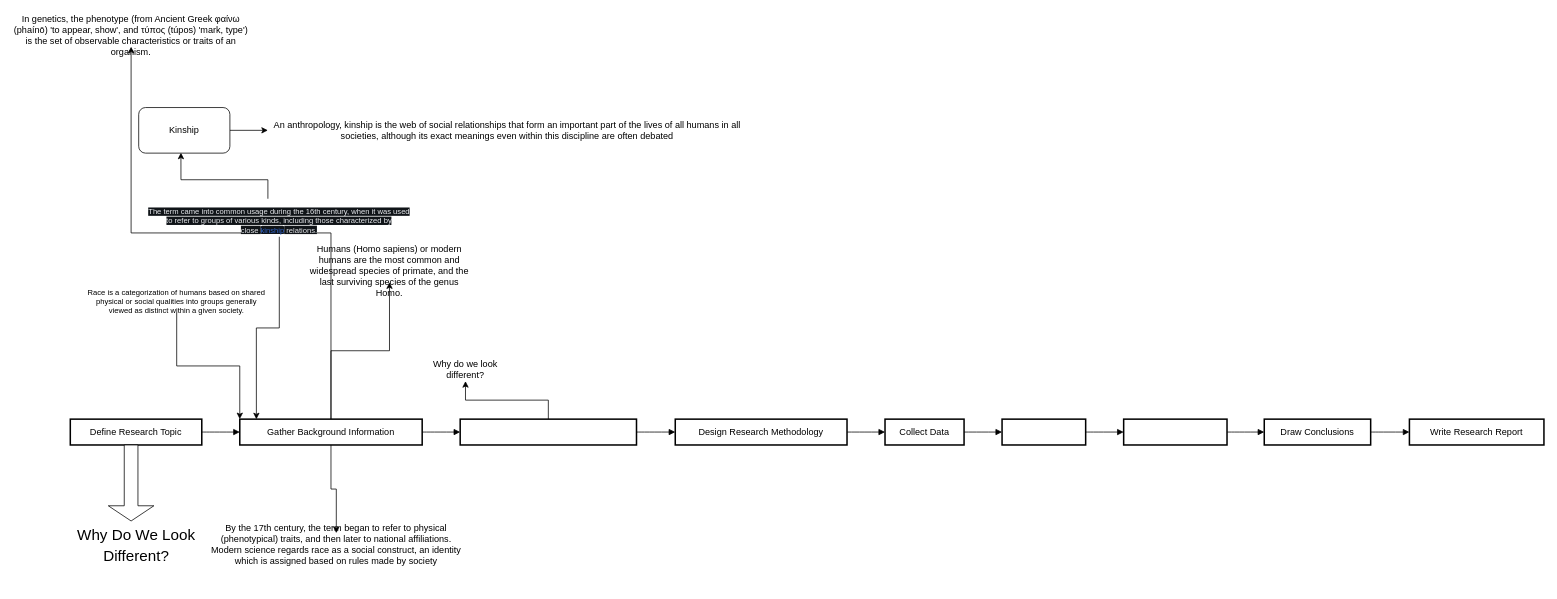
This 1557x599 diagram has some shape labels left out. Each missing label, with the centre of its shape:
"Analyze Data" goes at point (1043, 431).
"Formulate Research Questions" goes at point (548, 431).
"Interpret Results" goes at point (1175, 431).
